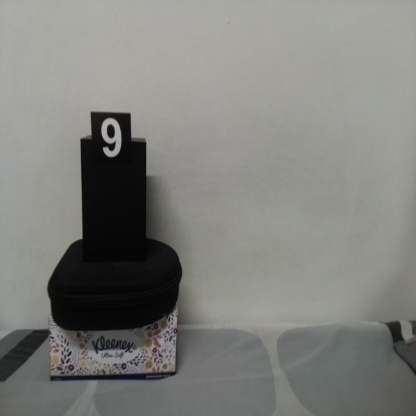id_9: (90, 112, 132, 174)
